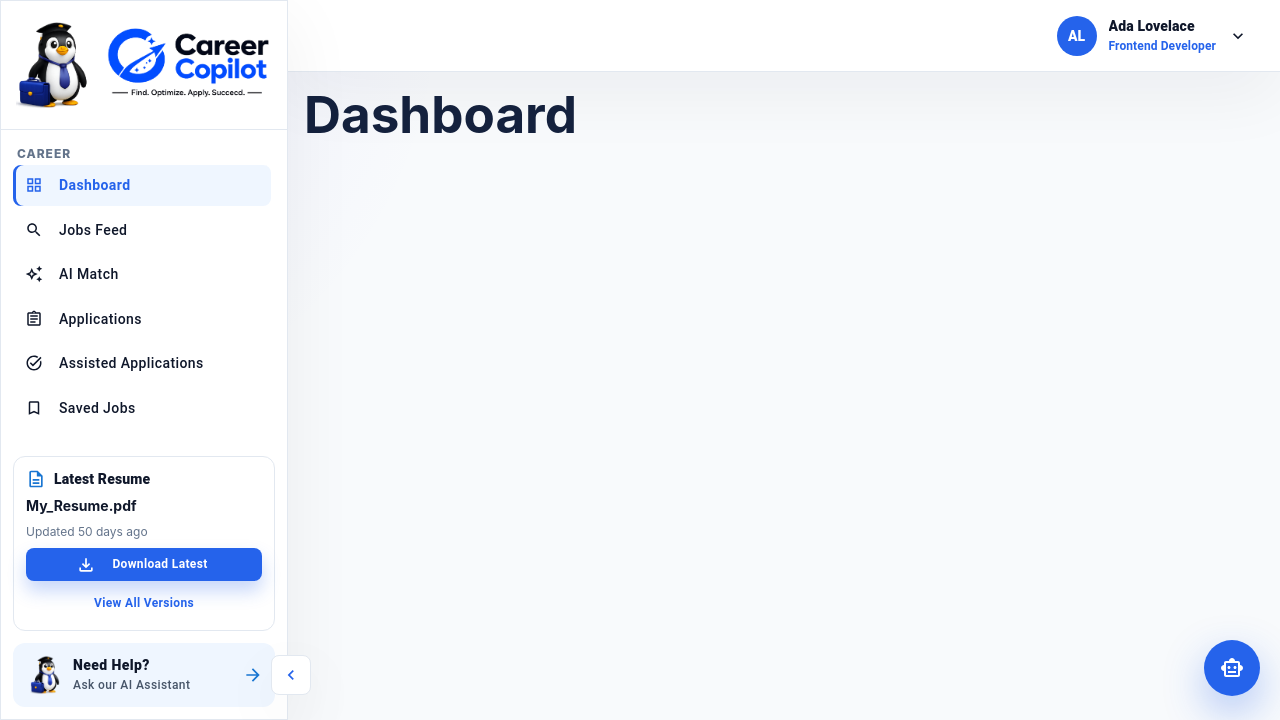
Test case: AppLayout › resumes and downloading › shows error toast when downloading resume throws an Error instance
Step 1. Click the button "Download Latest" → (144, 564), box [26,548,262,581]
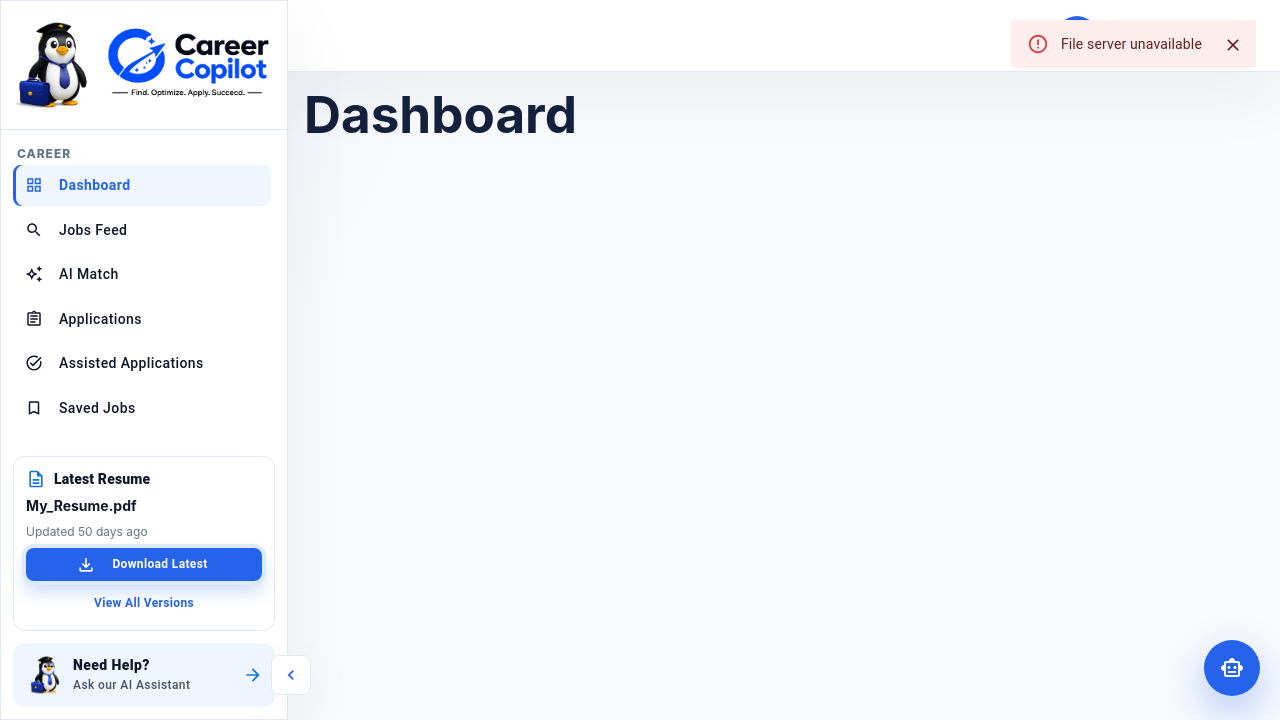
Check: the text "File server unavailable" is shown, box [1061,36,1202,52]
